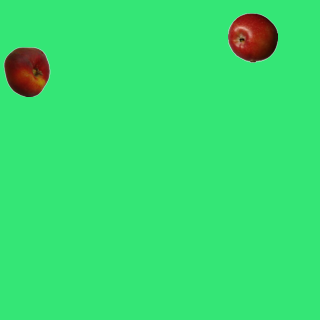Apple Braeburn: (227, 12, 277, 62)
Nectarine Flat: (1, 46, 51, 96)
